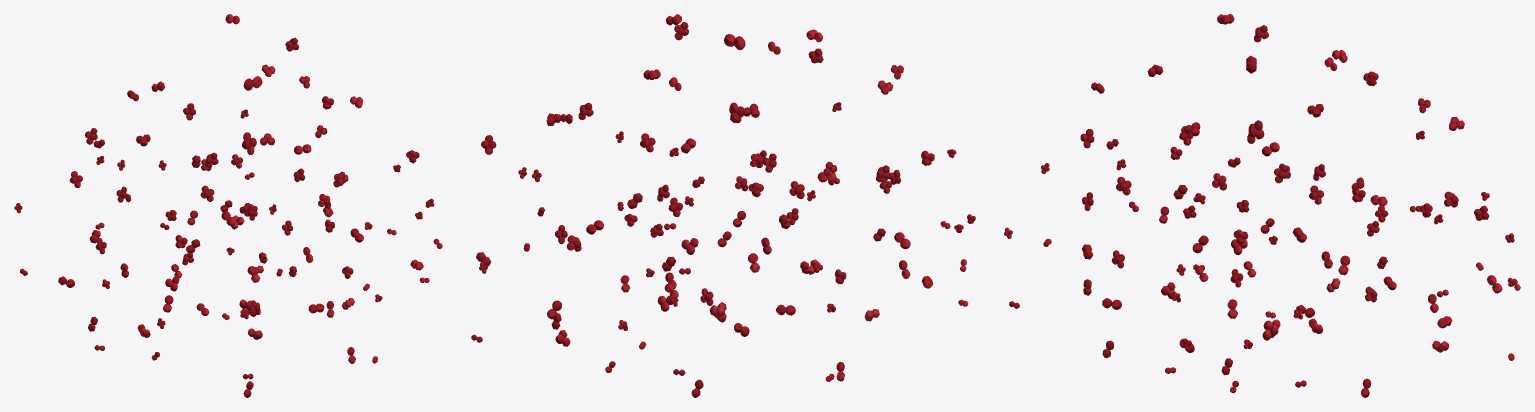
The model's file is ground_cover_03.glb.
3 renders of one model, left to right at view 1: azimuth 30°, elevation 25°; view 2: azimuth 150°, elevation 25°; view 3: azimuth 270°, elevation 25°, orthographic. The views are drawn at different scales.
Parts seen in each view (by area): view 1: ground_cover_03; view 2: ground_cover_03; view 3: ground_cover_03.
Part boxes in pixels (x1=…): ground_cover_03: x1=14, y1=14, x2=442, y2=397; ground_cover_03: x1=471, y1=14, x2=975, y2=397; ground_cover_03: x1=1004, y1=14, x2=1520, y2=397.
Bounding box in the file's own units: 1.23 × 0.8 × 1.34.
Materials: 1 (1 with a texture image).
